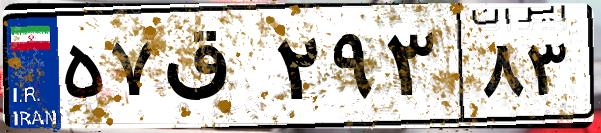2: (270, 28, 330, 110)
3: (385, 28, 445, 110), (525, 38, 570, 115)
5: (57, 26, 110, 100)
7: (110, 28, 158, 98)
8: (475, 38, 525, 113)
9: (330, 28, 385, 110)
ق: (158, 20, 270, 120)
